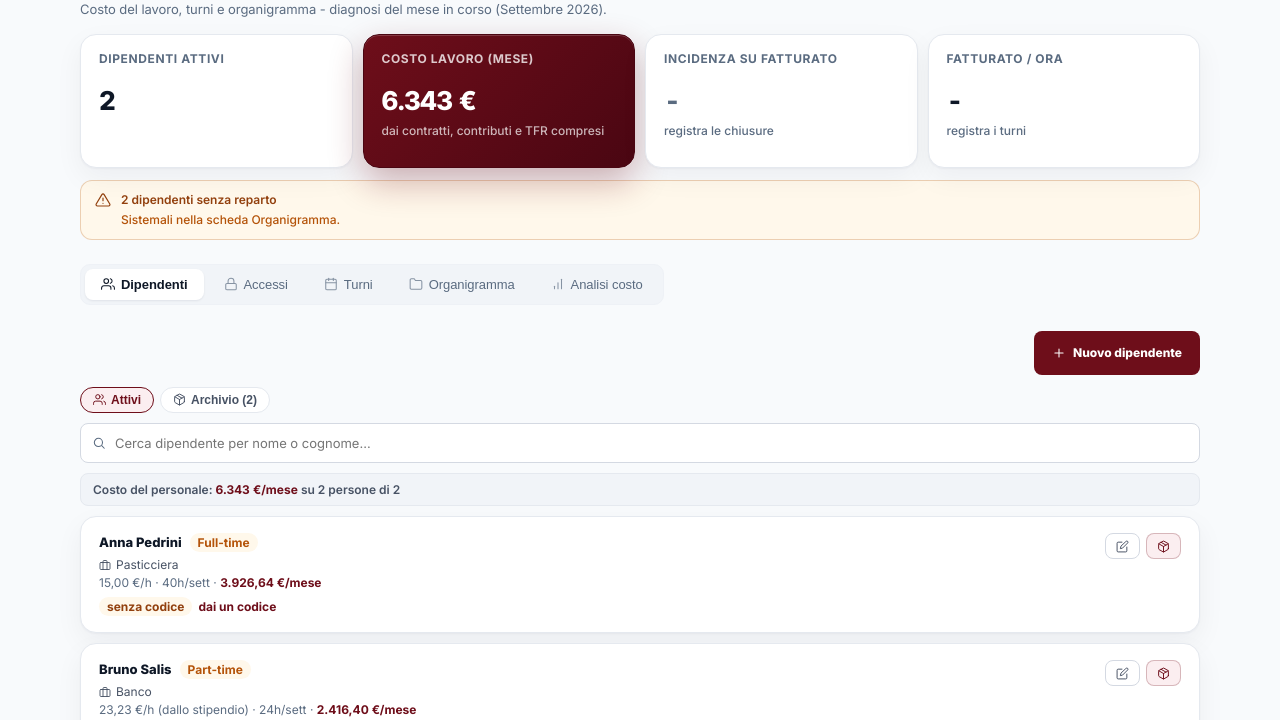
it: Prima di archiviare una persona, si chiede › compare la domanda invece dell'archiviazione immediata
The width and height of the screenshot is (1280, 720).
Click the button named "Archivia" in the row of "Full-time" at (1164, 546), box [1146,532,1181,558]
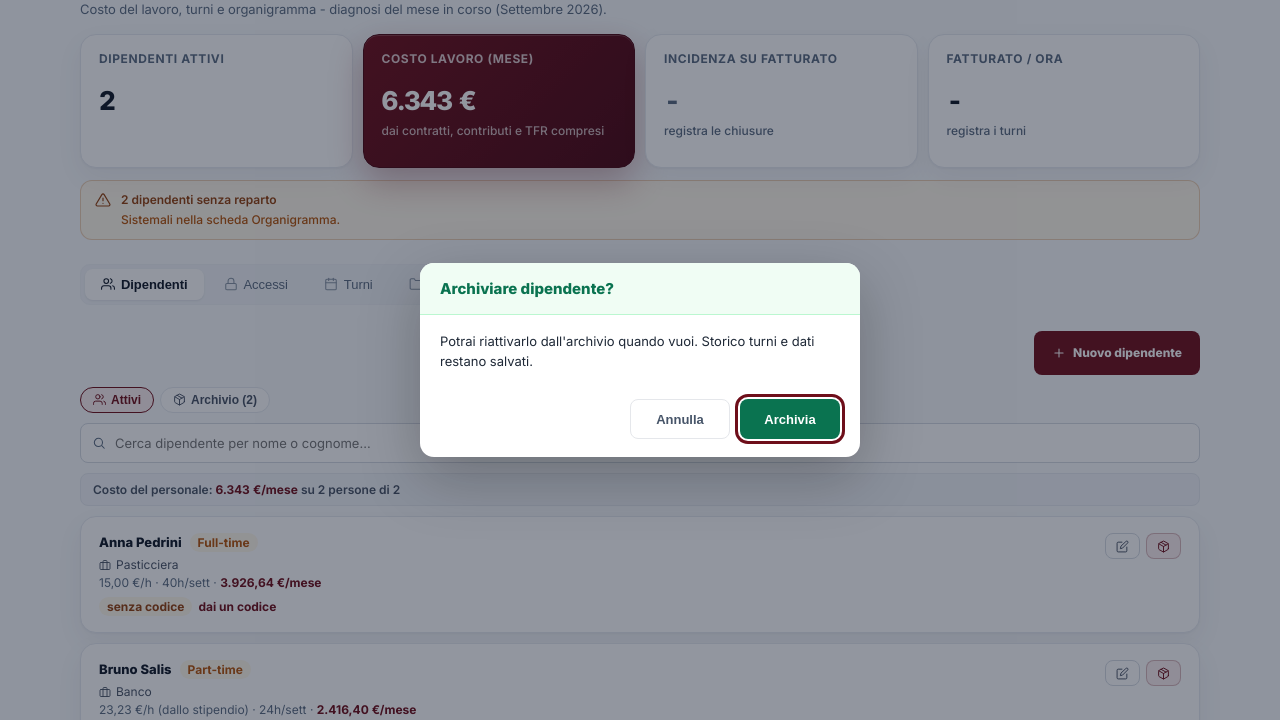
Now the text "Archiviare dipendente?" is shown, box [440,279,614,298]
